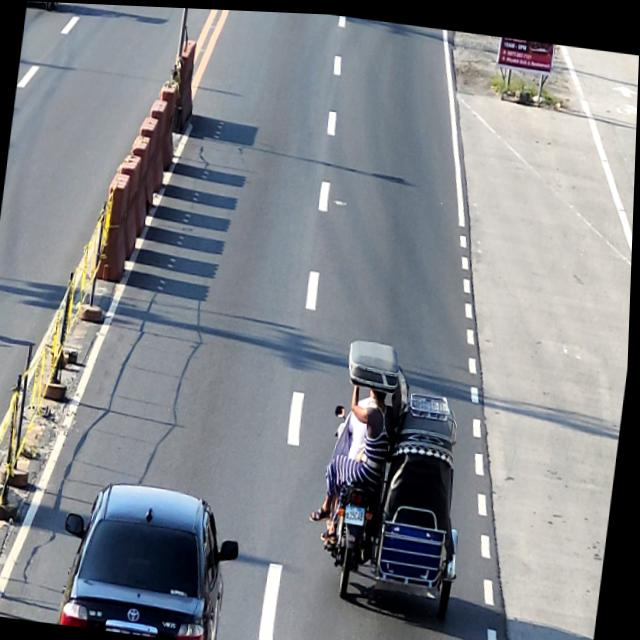Car: (59, 472, 250, 640)
License-Plate: (346, 502, 369, 521)
Tricycle: (316, 333, 485, 623)
